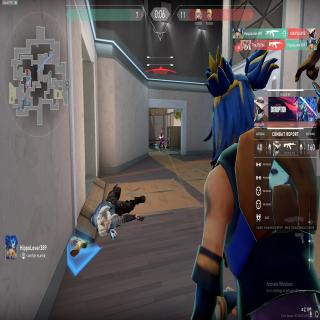ENEMY-BODY: (158, 130, 164, 152)
ENEMY-HEAD: (160, 130, 163, 135)
